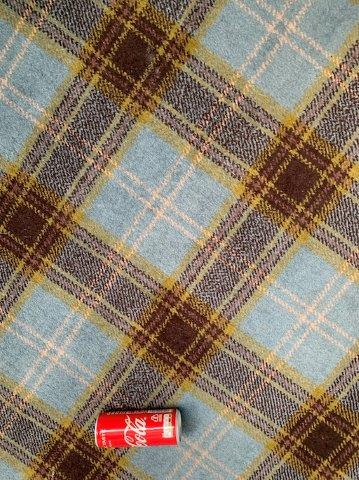kaleng: (96, 409, 181, 448)
